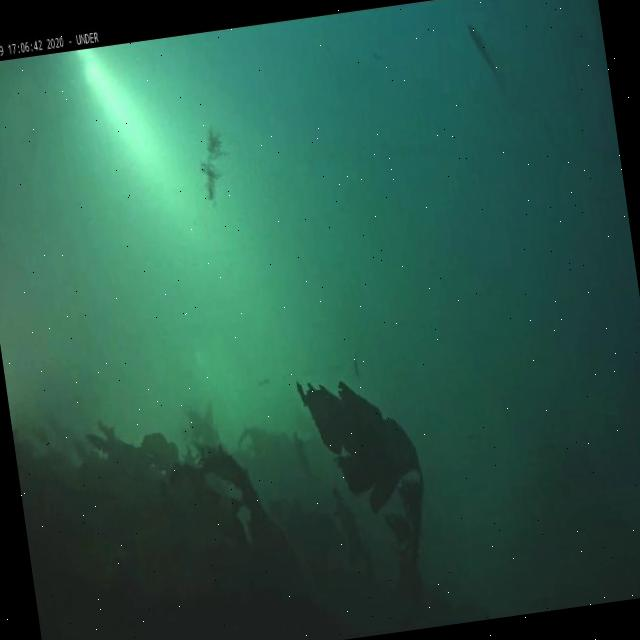fish: (464, 20, 504, 93)
